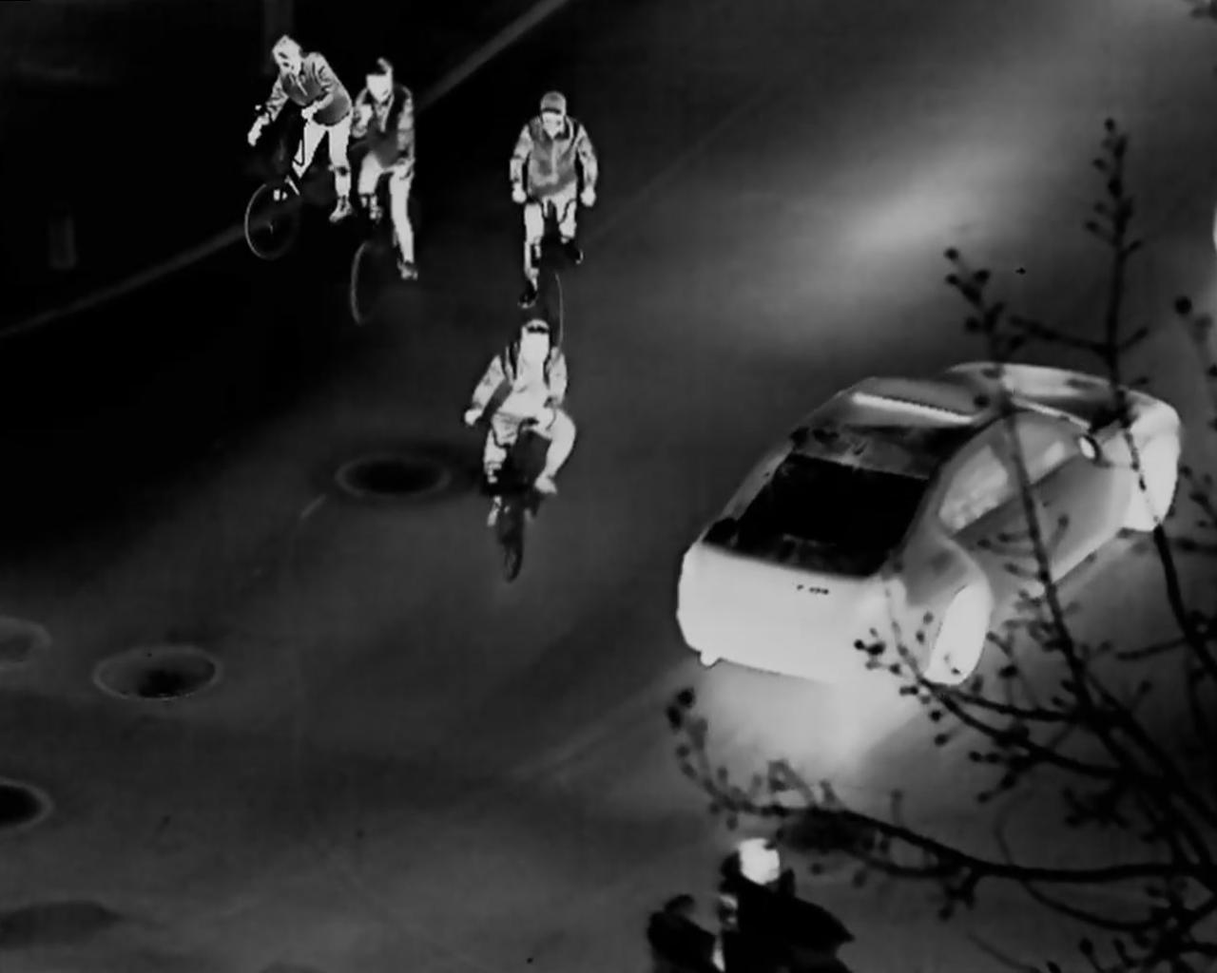person: (467, 330, 576, 521), (243, 40, 356, 214), (342, 60, 428, 283), (512, 98, 607, 296), (715, 839, 841, 973)
